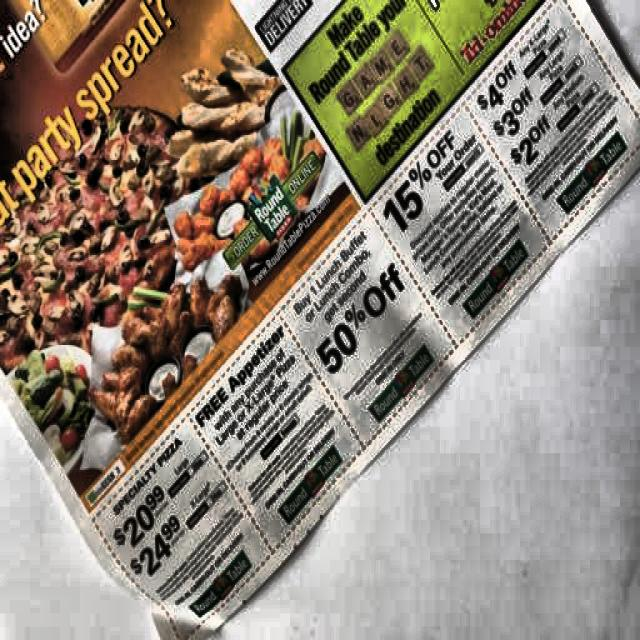paper: (0, 0, 619, 480)
